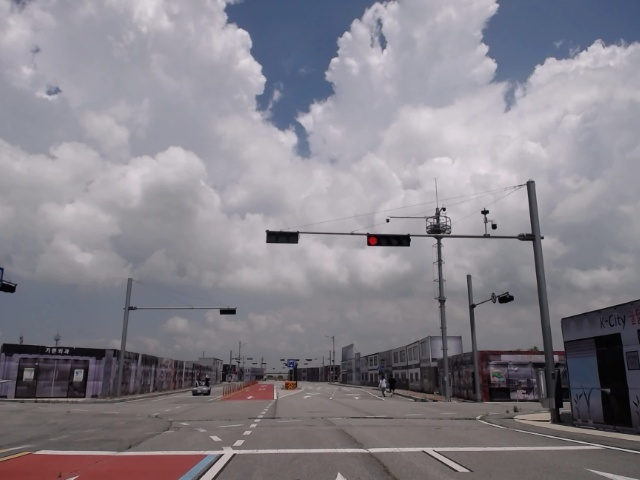red_4: (367, 235, 410, 247)
